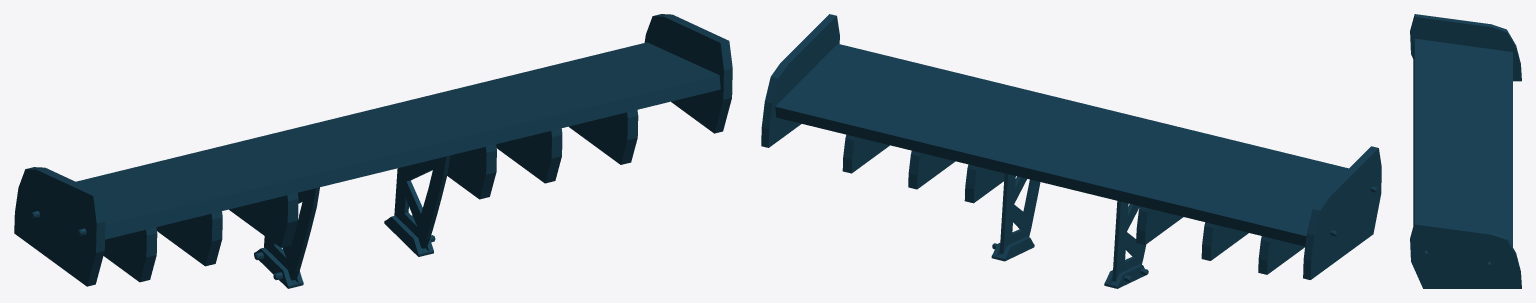
File: Spojler_tres.fbx
3 renders of one model, left to right at view 1: azimuth 30°, elevation 25°; view 2: azimuth 150°, elevation 25°; view 3: azimuth 270°, elevation 25°, orthographic. The views are drawn at different scales.
Parts seen in each view (by area): view 1: uploads_files_45745_3, uploads_files_45745_3.001; view 2: uploads_files_45745_3, uploads_files_45745_3.001; view 3: uploads_files_45745_3, uploads_files_45745_3.001.
Part boxes in pixels (x1,y1,x2,y2): uploads_files_45745_3: (31,42,720,288); uploads_files_45745_3.001: (14,14,732,286); uploads_files_45745_3: (775,44,1377,288); uploads_files_45745_3.001: (761,14,1381,279); uploads_files_45745_3: (1413,38,1512,266); uploads_files_45745_3.001: (1410,14,1521,288).
Size of the model in its own units: 199 by 51.77 by 43.87.
